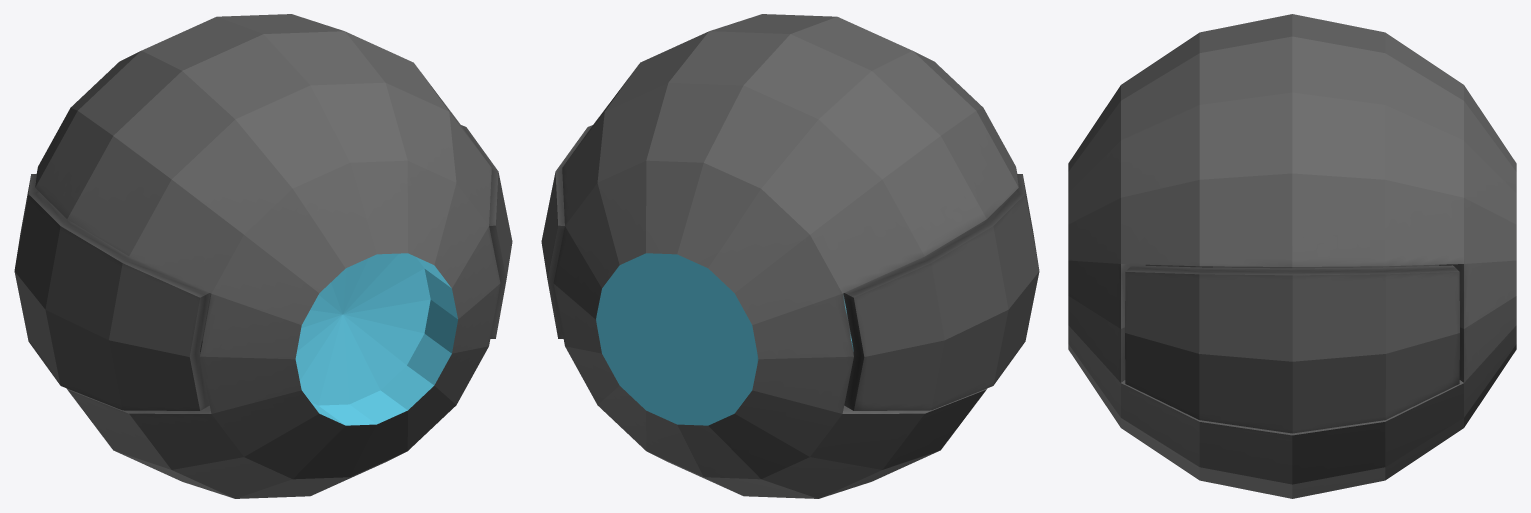
The model's file is BLD_Ice_Store_Freezer_Bot.fbx.
The picture shows the model from 3 angles, left to right: view 1: azimuth 30°, elevation 25°; view 2: azimuth 150°, elevation 25°; view 3: azimuth 270°, elevation 25°; orthographic projection.
Visible parts, largest first — view 1: BLD_Ice_Store_Freezer_Bot_mesh, Wing_R, Wing_L; view 2: BLD_Ice_Store_Freezer_Bot_mesh, Wing_R, Wing_L; view 3: BLD_Ice_Store_Freezer_Bot_mesh, Wing_L.
Boxes of the visible parts, x1,y1,x2,y2 form: BLD_Ice_Store_Freezer_Bot_mesh: (35, 14, 500, 498); Wing_R: (14, 174, 210, 410); Wing_L: (461, 125, 512, 338); BLD_Ice_Store_Freezer_Bot_mesh: (553, 14, 1018, 498); Wing_R: (843, 174, 1039, 410); Wing_L: (541, 125, 592, 338); BLD_Ice_Store_Freezer_Bot_mesh: (1068, 14, 1516, 498); Wing_L: (1125, 265, 1459, 433).
Size of the model in its own units: 9.82 by 9.57 by 8.84.
